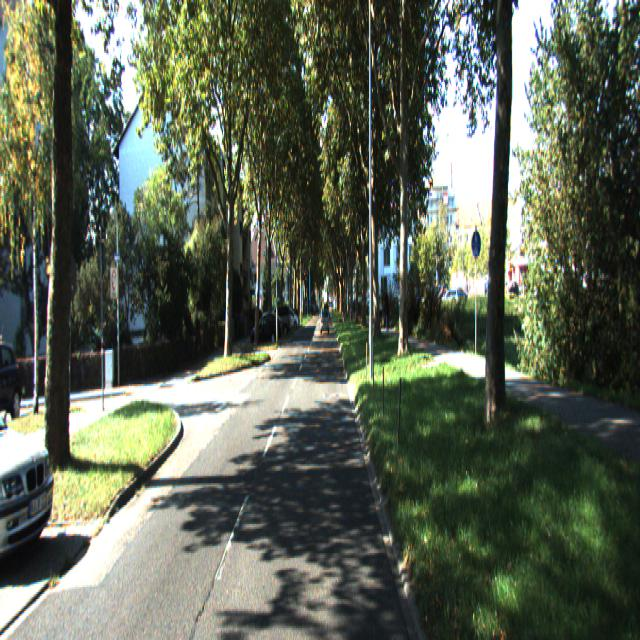Car: (0, 361, 65, 578), (252, 306, 280, 342)
